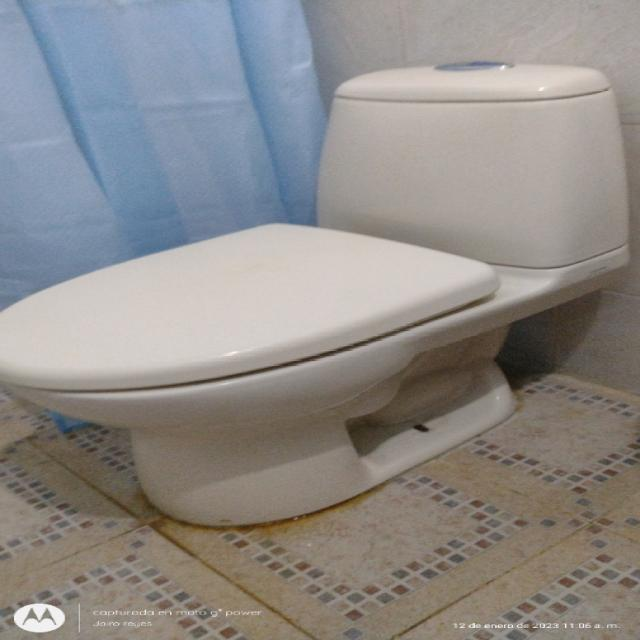toilet: (0, 54, 640, 528)
